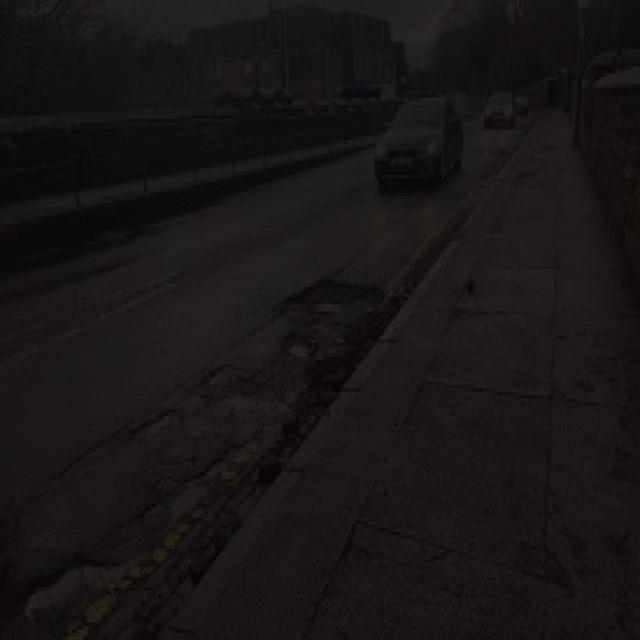Pothole: (0, 431, 270, 626), (269, 264, 392, 382)
